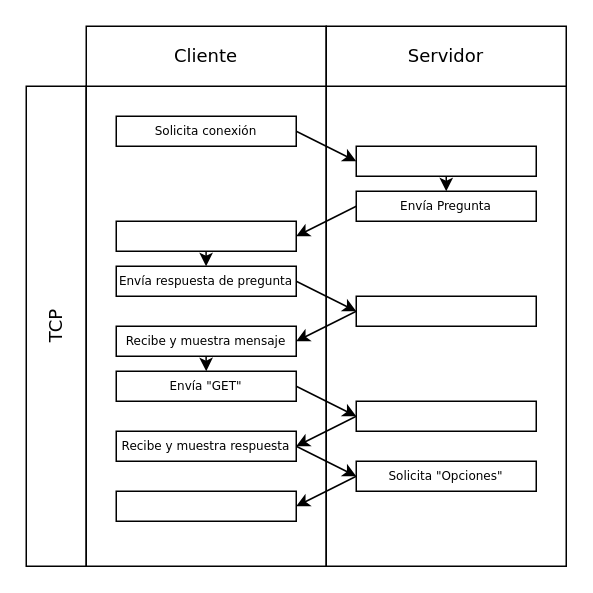
Image size: 593x593. Some labels were removed from this diagram. Each missing label, with the centre of its shape:
Acepta conexión: [445,160]
Manda "EXIT": [205,505]
Recibe "GET" y envía respuesta: [445,415]
Recibe respuesta y envía mensaje: [445,310]
Recibe y muestra pregunta: [205,235]
